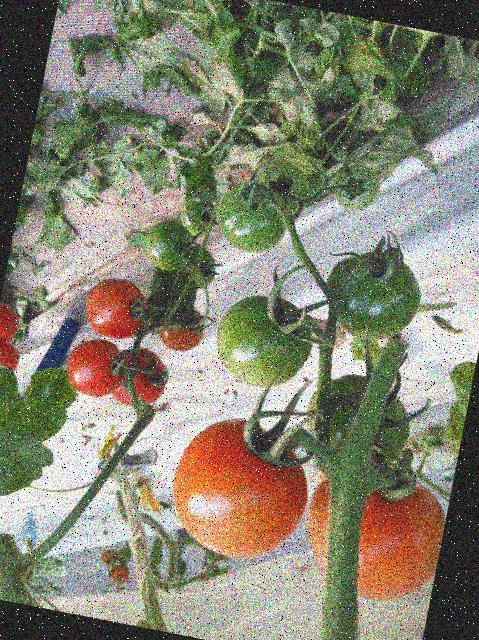l_fully_ripened: (159, 406, 320, 568), (79, 272, 152, 344), (61, 332, 129, 401), (109, 344, 172, 413), (0, 302, 22, 342), (0, 341, 21, 380)
l_green: (296, 364, 419, 485), (207, 286, 320, 395), (318, 242, 429, 349), (211, 175, 297, 259), (250, 157, 314, 220), (138, 215, 195, 274), (330, 159, 383, 214), (179, 245, 220, 292), (176, 194, 219, 237)
l_half_ripened: (292, 461, 451, 611), (155, 299, 209, 356)
